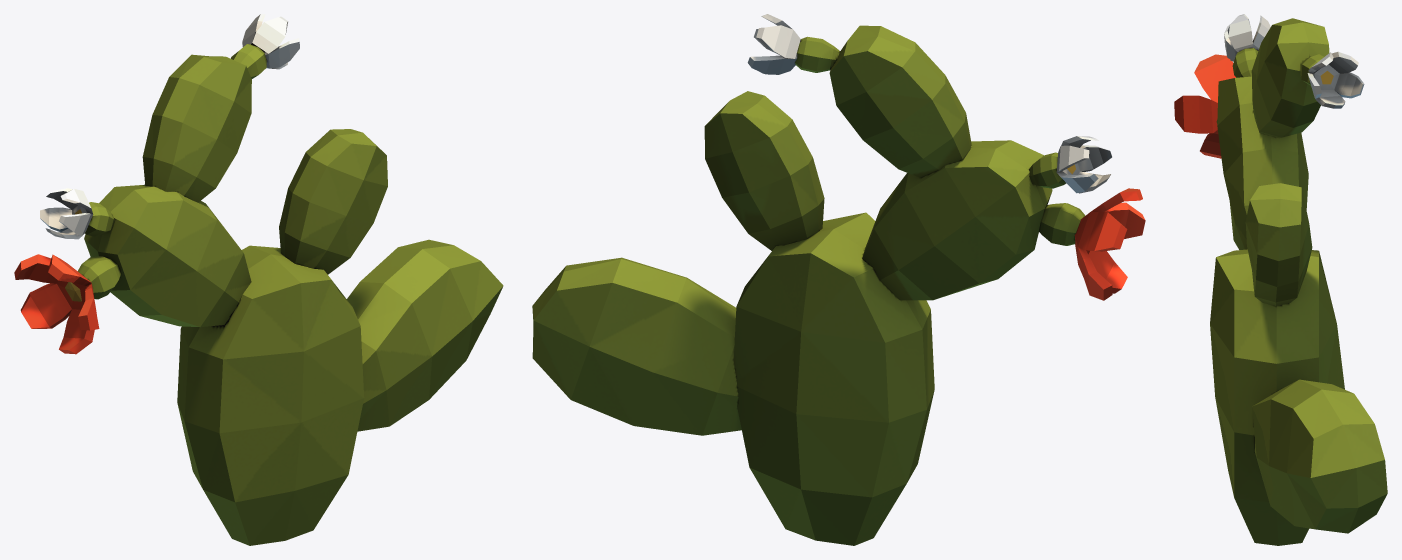
3 renders of one model, left to right at view 1: azimuth 30°, elevation 25°; view 2: azimuth 150°, elevation 25°; view 3: azimuth 270°, elevation 25°, orthographic. The views are drawn at different scales.
Parts seen in each view (by area): view 1: prickly_pear_cactus; view 2: prickly_pear_cactus; view 3: prickly_pear_cactus.
Boxes of the visible parts, x1,y1,x2,y2 form: prickly_pear_cactus: (14, 14, 503, 545); prickly_pear_cactus: (532, 14, 1145, 545); prickly_pear_cactus: (1174, 14, 1387, 545).
Bounding box in the file's own units: 2.43 × 2.21 × 0.8762.
Materials: 1 (1 with a texture image).
